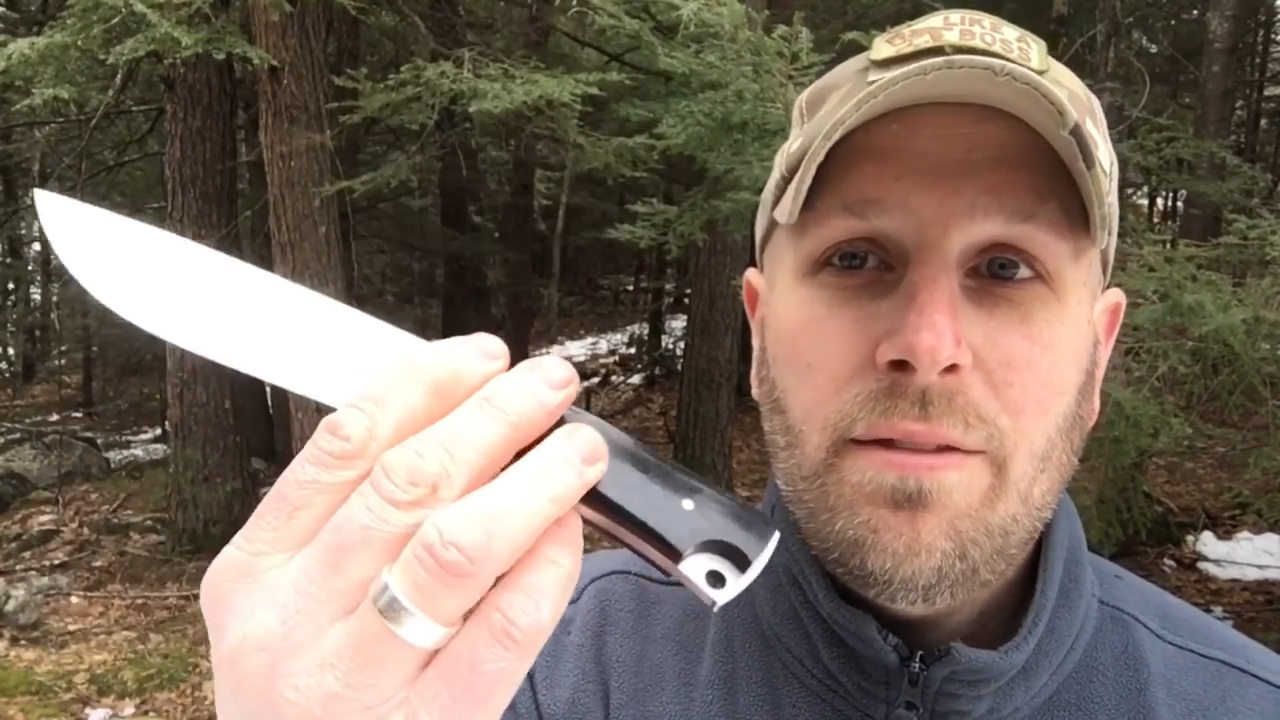knife: (26, 183, 581, 553)
